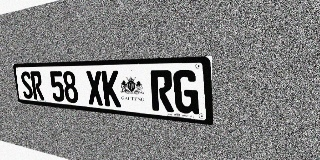5: (49, 71, 65, 102)
8: (62, 71, 79, 103)
G: (173, 70, 199, 115)
K: (101, 70, 121, 107)
R: (150, 70, 174, 112), (30, 71, 44, 100)
S: (20, 71, 34, 99)
X: (85, 71, 104, 106)
